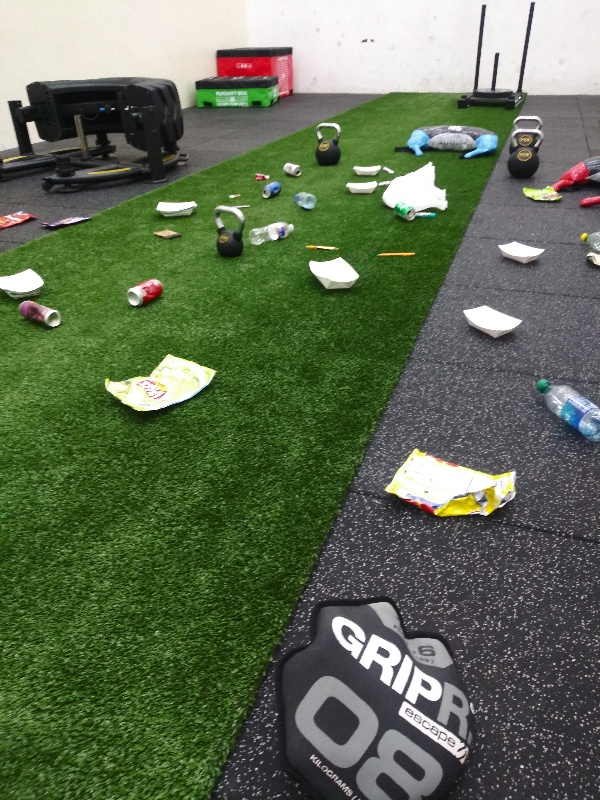bag: (377, 444, 524, 522), (98, 351, 219, 418), (1, 206, 41, 235), (519, 182, 567, 205), (39, 214, 88, 227)
bottle: (530, 373, 600, 446), (247, 220, 300, 252), (288, 187, 319, 211), (578, 227, 600, 256)
can: (15, 295, 66, 330), (122, 276, 165, 308), (388, 200, 419, 224), (256, 178, 283, 202), (279, 159, 305, 179)
plate: (457, 300, 526, 344), (303, 254, 362, 293), (1, 263, 49, 301), (491, 239, 548, 268), (153, 197, 200, 220), (339, 179, 380, 197), (348, 162, 384, 178)
